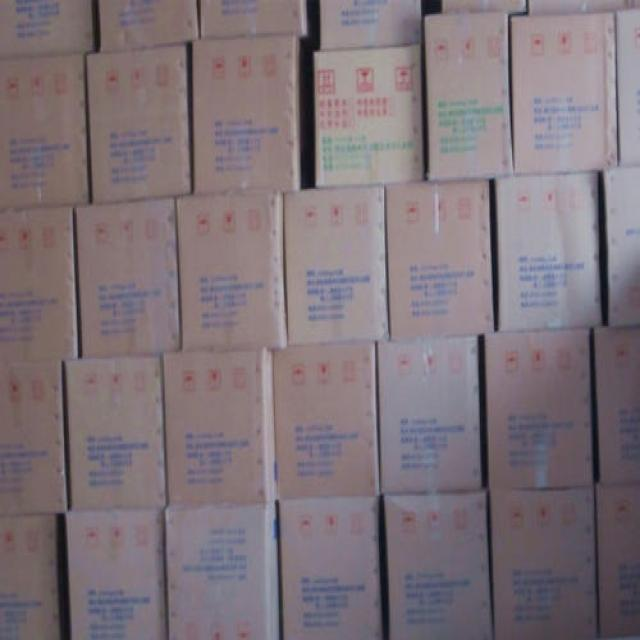box: (161, 343, 276, 501), (177, 186, 287, 350), (271, 340, 381, 501), (387, 179, 495, 340), (485, 328, 594, 487), (511, 9, 617, 170), (283, 184, 389, 345), (192, 38, 301, 194), (495, 173, 602, 331), (74, 198, 179, 357), (376, 335, 481, 494), (87, 43, 189, 205), (490, 489, 599, 640), (383, 493, 492, 638), (65, 357, 166, 510), (315, 43, 422, 187), (166, 505, 280, 640), (424, 14, 513, 180), (278, 496, 380, 640), (65, 505, 168, 640), (0, 52, 88, 206), (0, 208, 77, 361), (0, 361, 67, 513), (0, 515, 67, 640), (591, 324, 640, 486), (593, 482, 640, 640), (603, 165, 640, 328), (0, 0, 93, 57), (320, 0, 422, 50), (99, 0, 198, 50), (201, 0, 308, 38), (616, 9, 640, 167), (530, 0, 640, 14), (442, 0, 527, 14)
